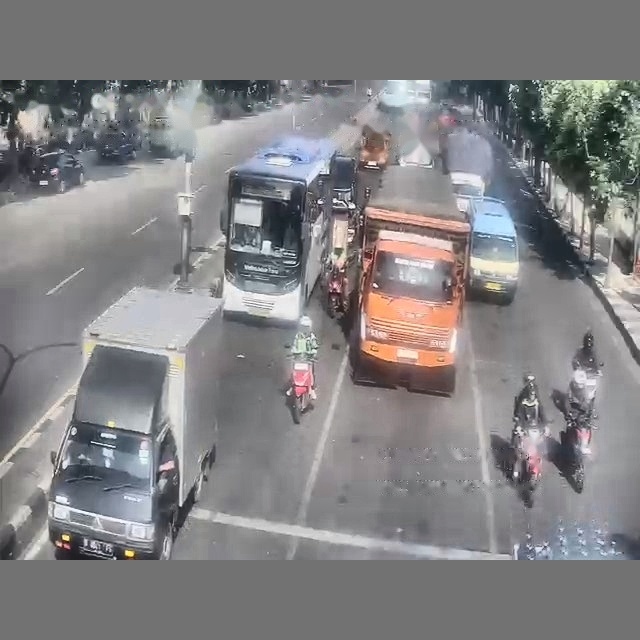Bis: (220, 136, 337, 322)
Mobil: (29, 150, 84, 192), (96, 130, 136, 161)
Motor: (511, 418, 548, 492), (563, 410, 594, 492), (286, 356, 314, 423), (567, 367, 601, 412), (326, 265, 347, 318)
Truk: (48, 287, 222, 559), (352, 166, 470, 395)
